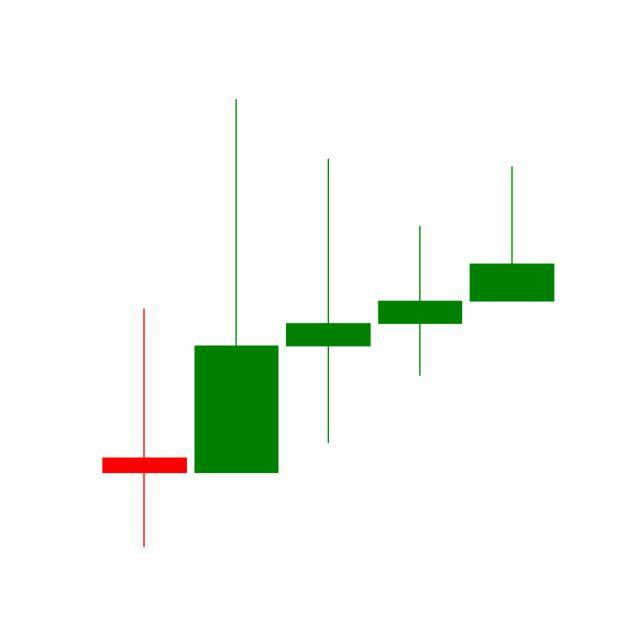Spinning Top: (374, 225, 468, 379)
